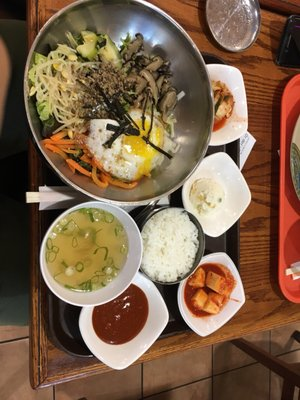pizza: (198, 0, 261, 53)
sushi: (23, 1, 213, 204), (39, 202, 144, 307), (77, 271, 170, 370), (181, 151, 252, 238), (177, 251, 246, 337), (205, 64, 248, 147), (197, 0, 261, 53)
